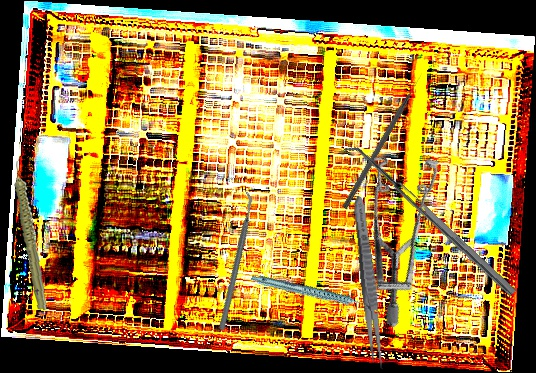Chopper: (170, 188, 300, 332)
Dressing Forceps: (349, 194, 388, 371)
Handpiece: (250, 251, 371, 335), (4, 156, 59, 310)
Hook Surgical: (341, 71, 426, 211)
Spatula Surgical: (341, 138, 517, 304)
Speculum: (299, 129, 492, 329)
